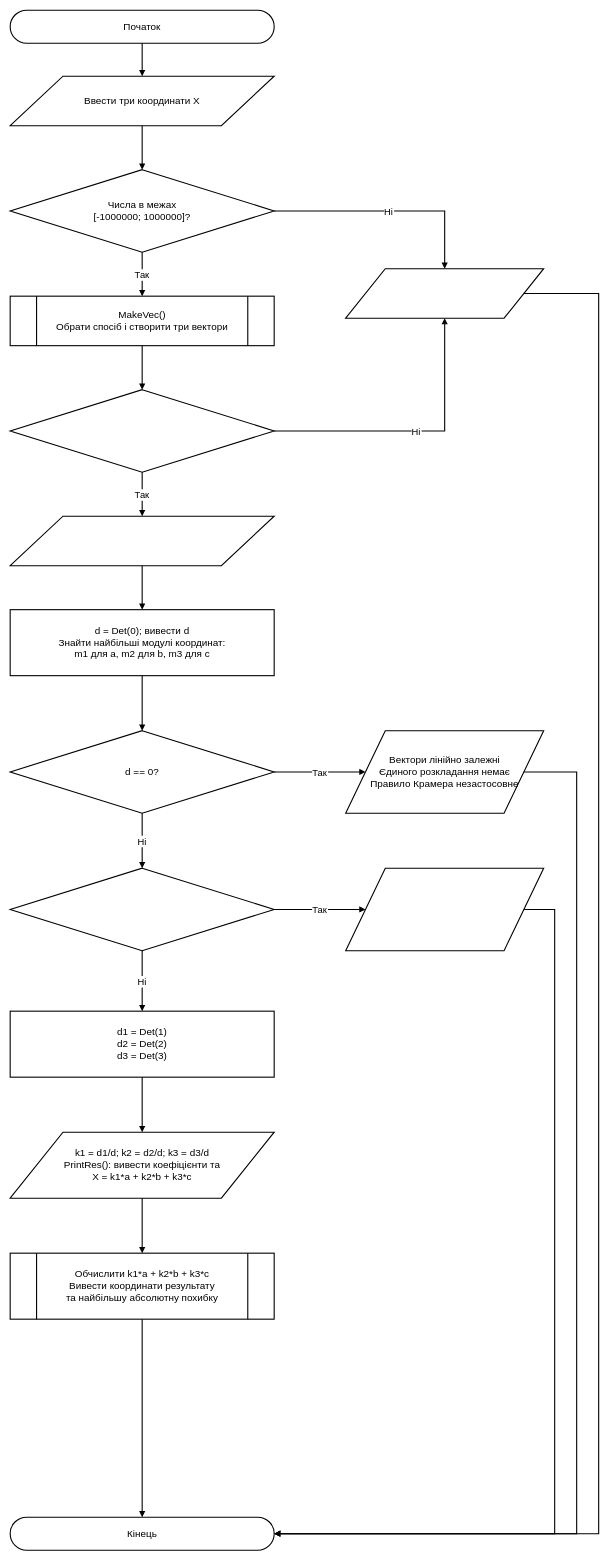
Some shapes in this 613 by 1560 pixel diagram are drawn without their labels. The shapes that lost their labels are listed below. From the top down, each one's box as (x1, y1, x2, y2) in pixels, then its label:
(345, 268, 544, 318): Вивести помилку введення
(9, 389, 274, 472): Вектори створено без помилки?
(9, 515, 274, 566): Вивести X, a, b, c
(9, 867, 274, 951): |d| ≤ 10⁻¹²*m1*m2*m3?
(345, 867, 544, 951): Вектори майже залежні Обчислення коефіцієнтів може бути нестійким
